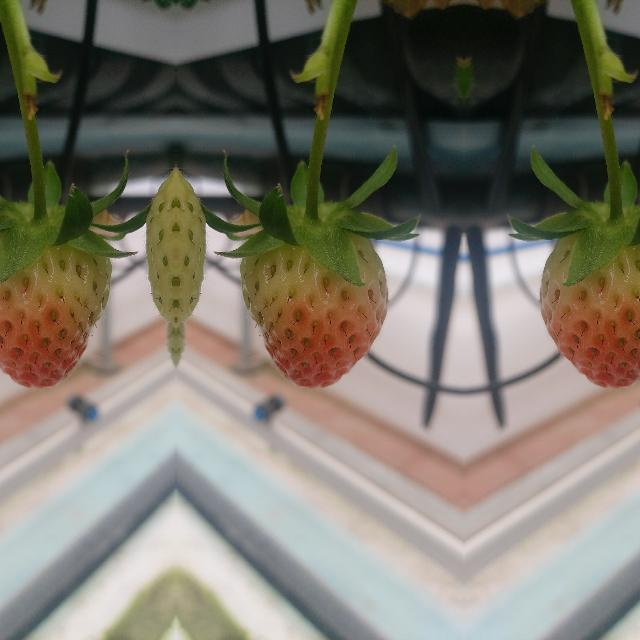Health_75: (239, 231, 387, 387), (0, 231, 111, 387), (539, 231, 640, 387)
